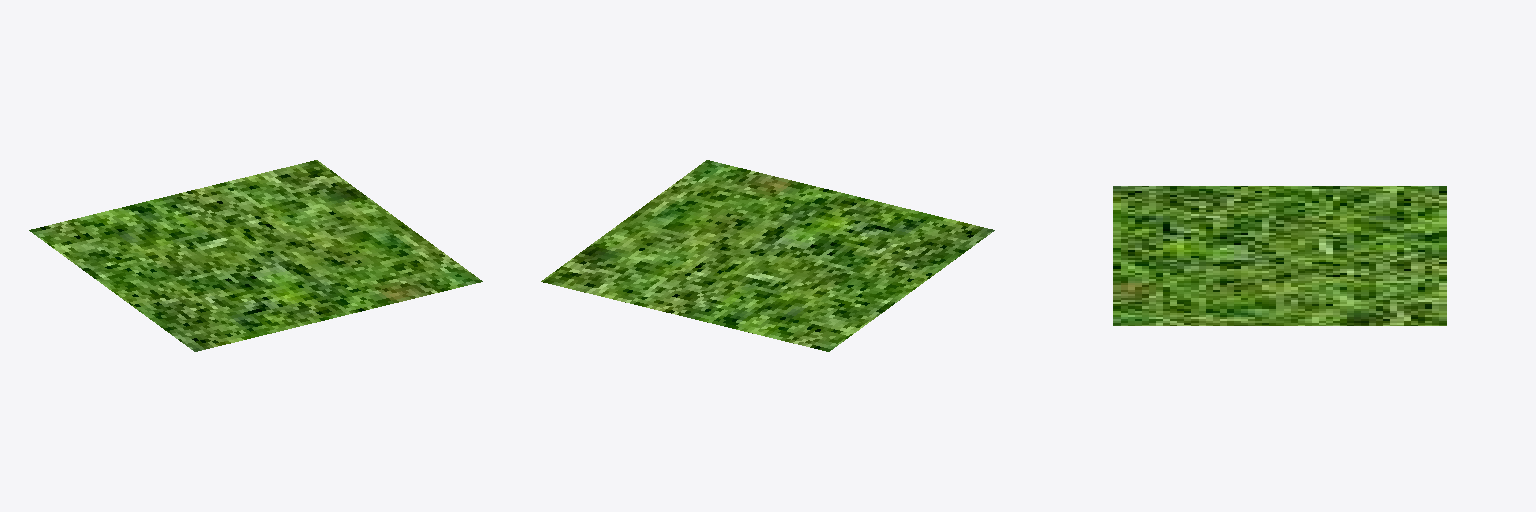
The picture shows the model from 3 angles: view 1: azimuth 30°, elevation 25°; view 2: azimuth 150°, elevation 25°; view 3: azimuth 270°, elevation 25°; orthographic projection.
Visible parts, largest first — view 1: Cube; view 2: Cube; view 3: Cube.
Boxes of the visible parts, x1=… form: Cube: x1=29, y1=160, x2=482, y2=351; Cube: x1=541, y1=160, x2=994, y2=351; Cube: x1=1113, y1=186, x2=1446, y2=325.
Size of the model in its own units: 2000 by 0.2 by 2000.
Materials: 1 (1 with a texture image).